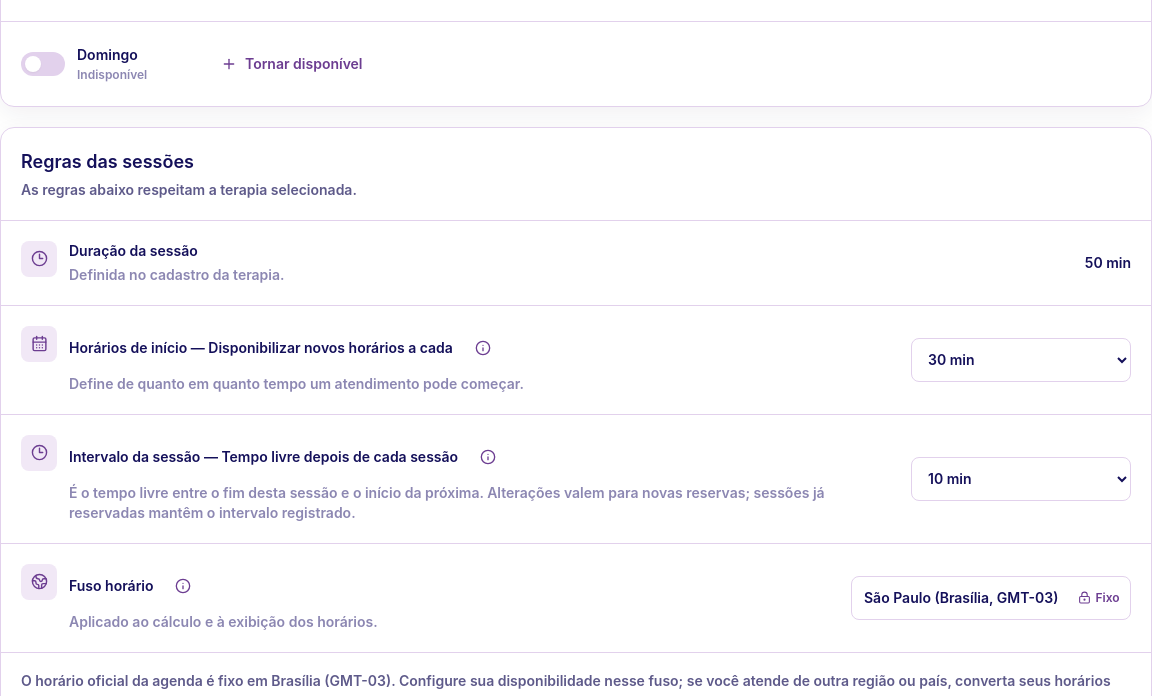
Test: TherapistScheduleHours › explains each session rule through an accessible information popover
(page scrolled)
Click the button named "Saiba mais sobre Horários de início — Disponibilizar novos horários a cada".
click(483, 348)  # box [461,326,505,370]
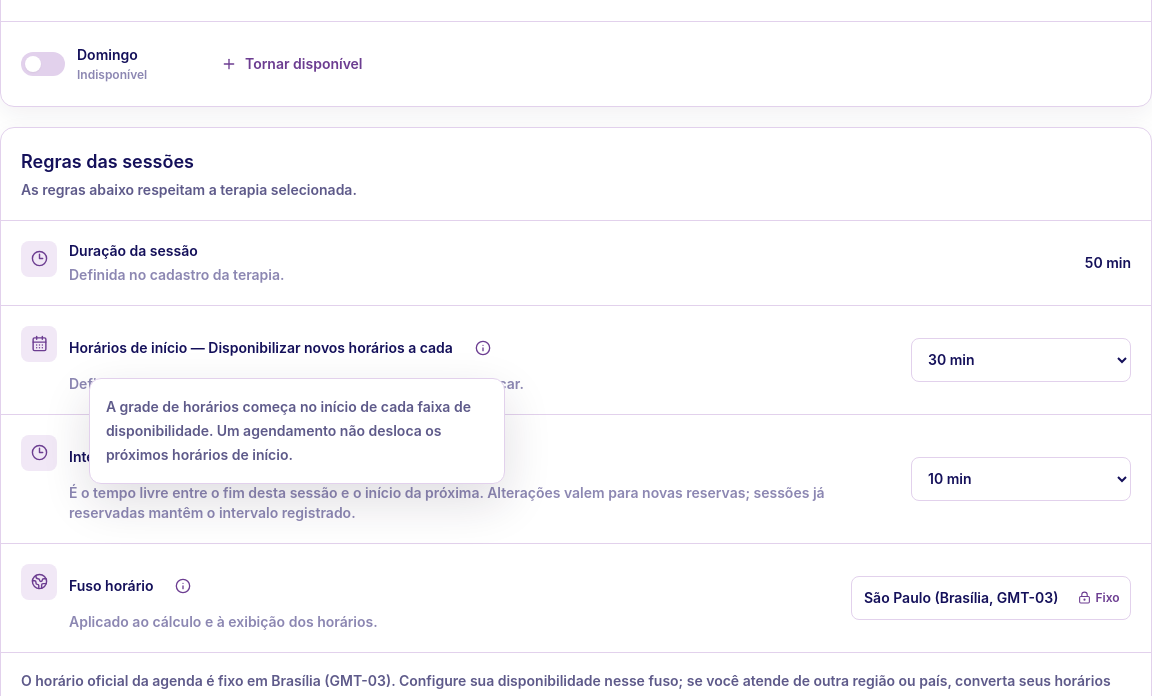
Expected: the tooltip shows "A grade de horários começa no início de cada faixa", [106,398,471,463]
Press Escape
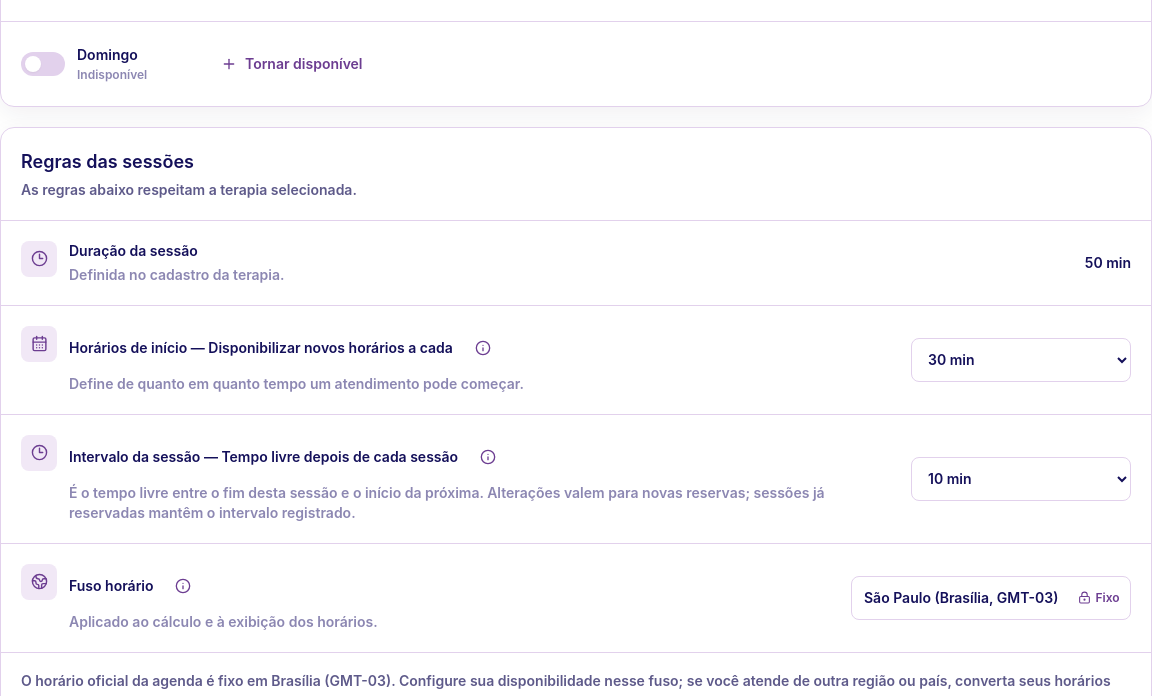
Expected: the tooltip is gone
